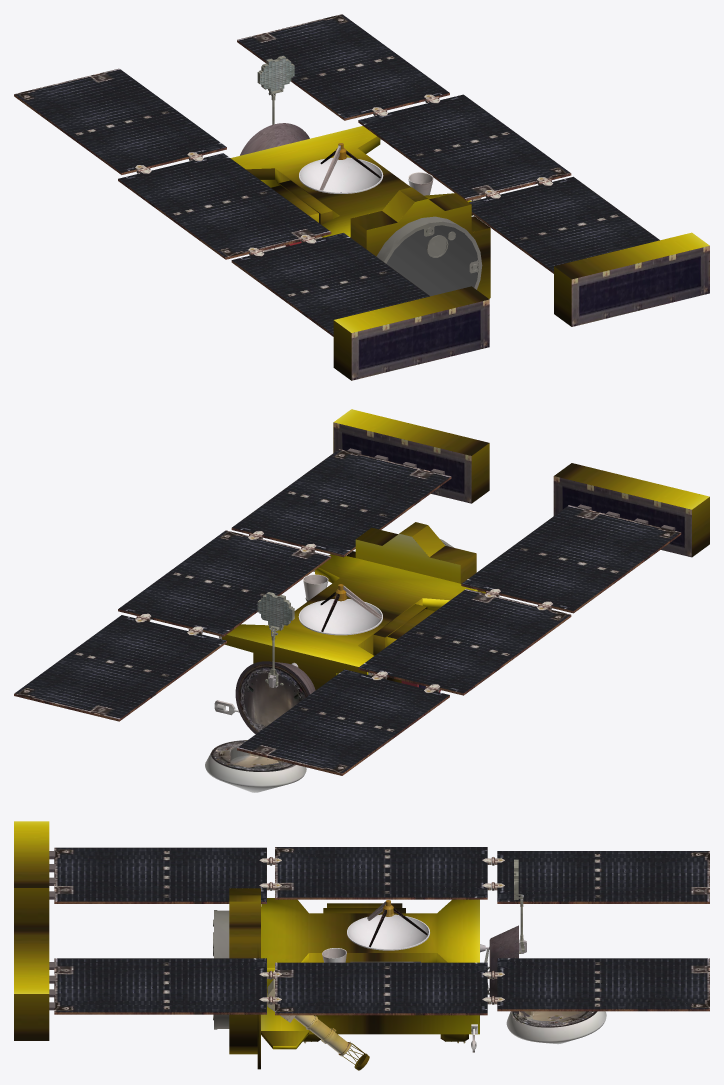
Rendered from stardust.glb.
3 renders of one model, top to bottom at view 1: azimuth 30°, elevation 25°; view 2: azimuth 150°, elevation 25°; view 3: azimuth 270°, elevation 25°, orthographic.
Visible parts, largest first — view 1: shiny_panels, gold_foil, foil_silver, Stardust_tex_02, Stardust_tex_03; view 2: shiny_panels, gold_foil, Stardust_tex_03, Stardust_tex_02; view 3: shiny_panels, gold_foil, Stardust_tex_03, Stardust_tex_02.
Part boxes in pixels (left/top/right/bottom): shiny_panels: left=14, top=14, right=709, bottom=380; gold_foil: left=230, top=126, right=709, bottom=380; foil_silver: left=386, top=225, right=477, bottom=296; Stardust_tex_02: left=257, top=56, right=482, bottom=289; Stardust_tex_03: left=299, top=143, right=383, bottom=193; shiny_panels: left=14, top=422, right=691, bottom=792; gold_foil: left=222, top=409, right=709, bottom=690; Stardust_tex_03: left=211, top=584, right=382, bottom=771; Stardust_tex_02: left=257, top=539, right=454, bottom=692; shiny_panels: left=49, top=847, right=709, bottom=1066; gold_foil: left=14, top=821, right=479, bottom=1070; Stardust_tex_03: left=347, top=900, right=597, bottom=1027; Stardust_tex_02: left=213, top=859, right=526, bottom=1056.
Bounding box in the file's own units: 2.94 × 1.45 × 5.01.
5 materials, 5 textured.
